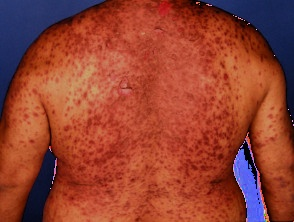SJS-TEN: (3, 0, 274, 221), (253, 90, 293, 216)
